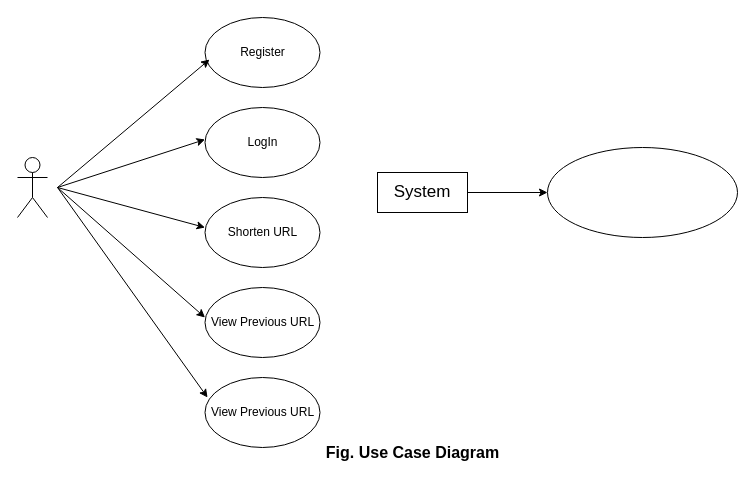
This 755x485 diagram has some shape labels left out. The shapes that lost their labels are listed below. From the top down, each one's centre as x and y in pixels, then its label:
At [32,187]: "User".
At [642,192]: "Retrieve original URL (via API)".
